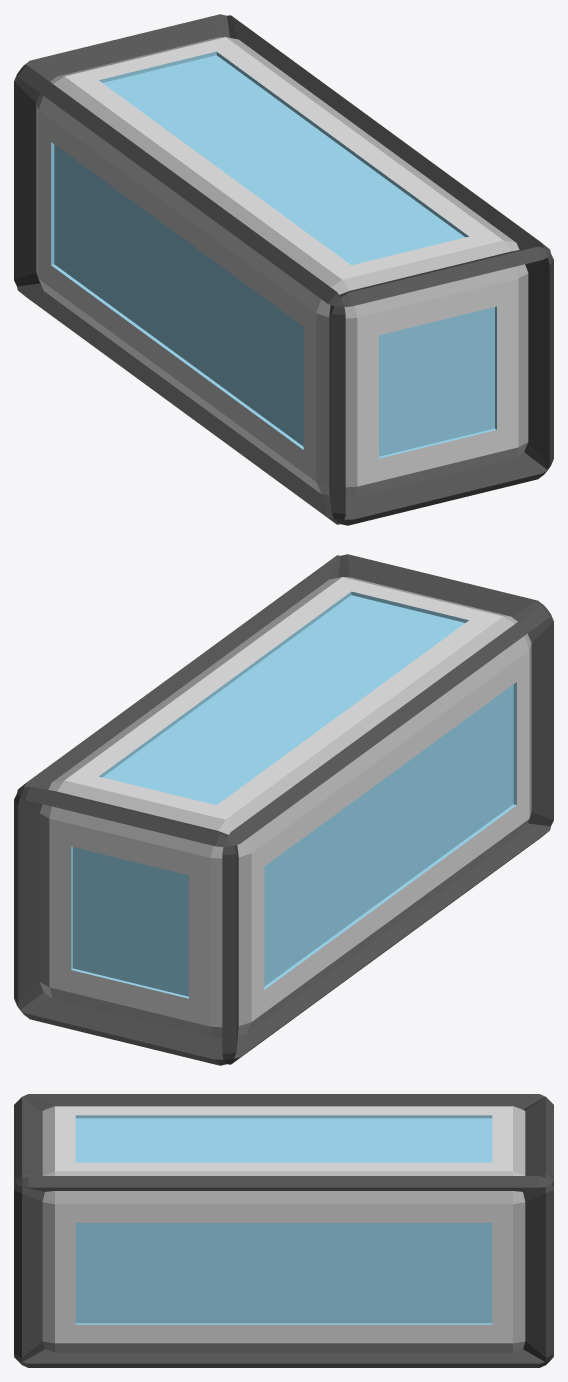
3 renders of one model, top to bottom at view 1: azimuth 30°, elevation 25°; view 2: azimuth 150°, elevation 25°; view 3: azimuth 270°, elevation 25°, orthographic. The views are drawn at different scales.
Visible parts, largest first — view 1: Cube; view 2: Cube; view 3: Cube.
Boxes of the visible parts, x1,y1,x2,y2 form: Cube: (14, 14, 553, 525); Cube: (14, 554, 553, 1065); Cube: (14, 1094, 553, 1367).
Size of the model in its own units: 417 by 417 by 1064.
